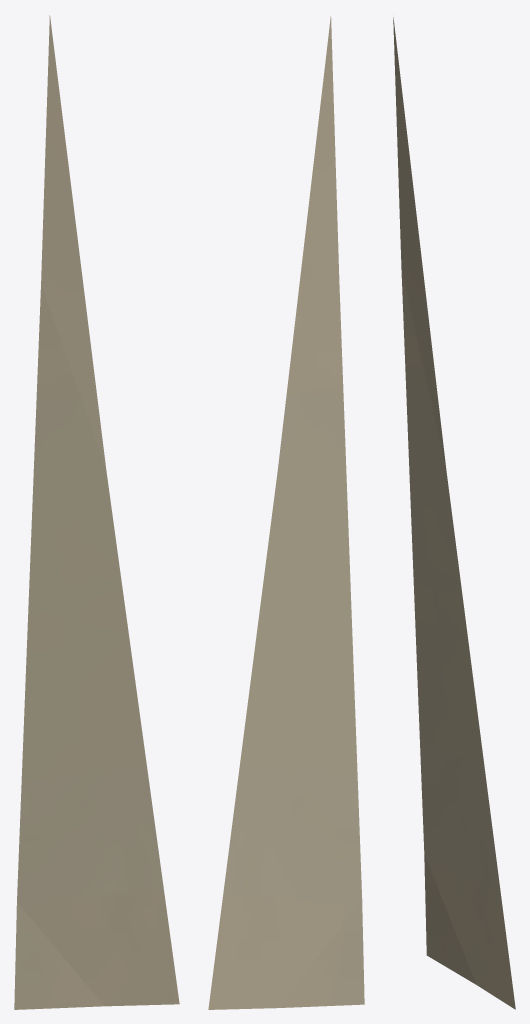
3 renders of one model, left to right at view 1: azimuth 30°, elevation 25°; view 2: azimuth 210°, elevation 25°; view 3: azimuth 330°, elevation 25°, orthographic. The views are drawn at different scales.
Size of the model in its own units: 0.0539 by 0.4053 by 0.0255.
1 material, 1 textured.
